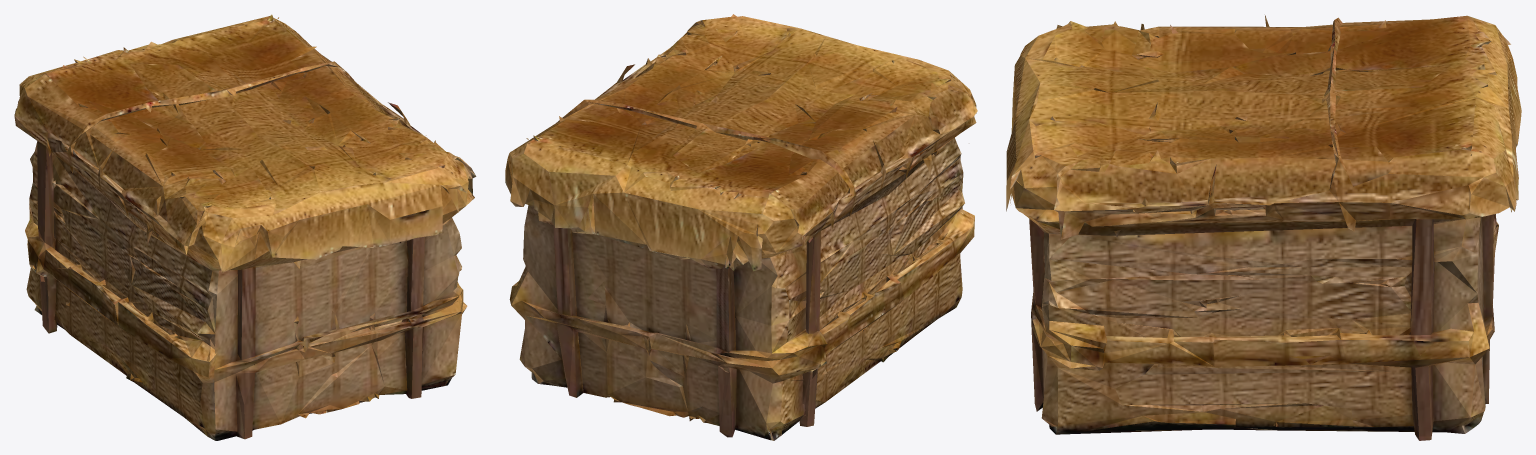
File: prop_hay_bale_01.glb
3 renders of one model, left to right at view 1: azimuth 30°, elevation 25°; view 2: azimuth 150°, elevation 25°; view 3: azimuth 270°, elevation 25°, orthographic. The views are drawn at different scales.
Parts seen in each view (by area): view 1: geometry_0; view 2: geometry_0; view 3: geometry_0.
Part boxes in pixels (x1,y1,x2,y2): geometry_0: (14,14,476,440); geometry_0: (505,14,977,440); geometry_0: (1006,15,1521,440).
Size of the model in its own units: 0.7755 by 0.619 by 0.9945.
Materials: 1 (1 with a texture image).
